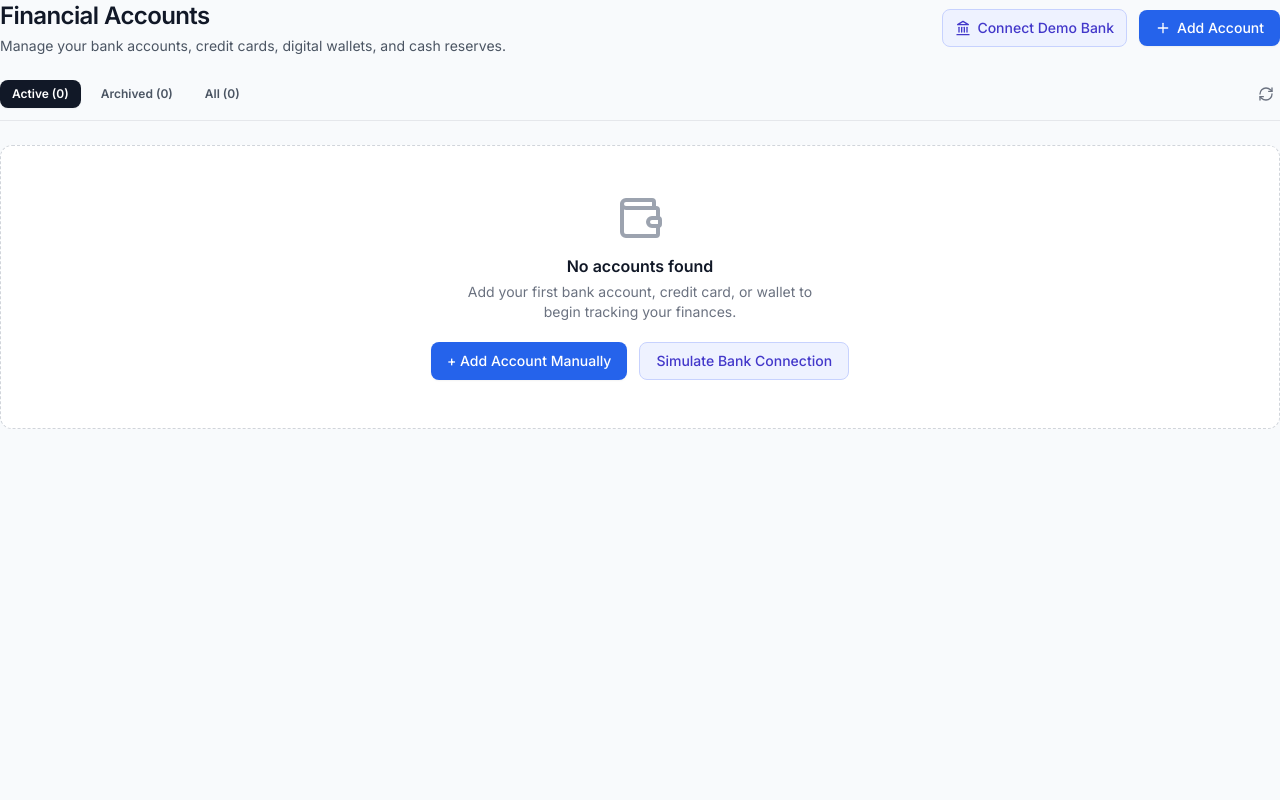
Test: Frontend Financial Engine & Banking Pages › handles account creation errors cleanly and shows confirmed success banner
Expected: the heading "No accounts found" is shown, [567, 256, 713, 276]
Step 1. Click the button "Add Account" → (1210, 28), box [1139, 10, 1279, 46]
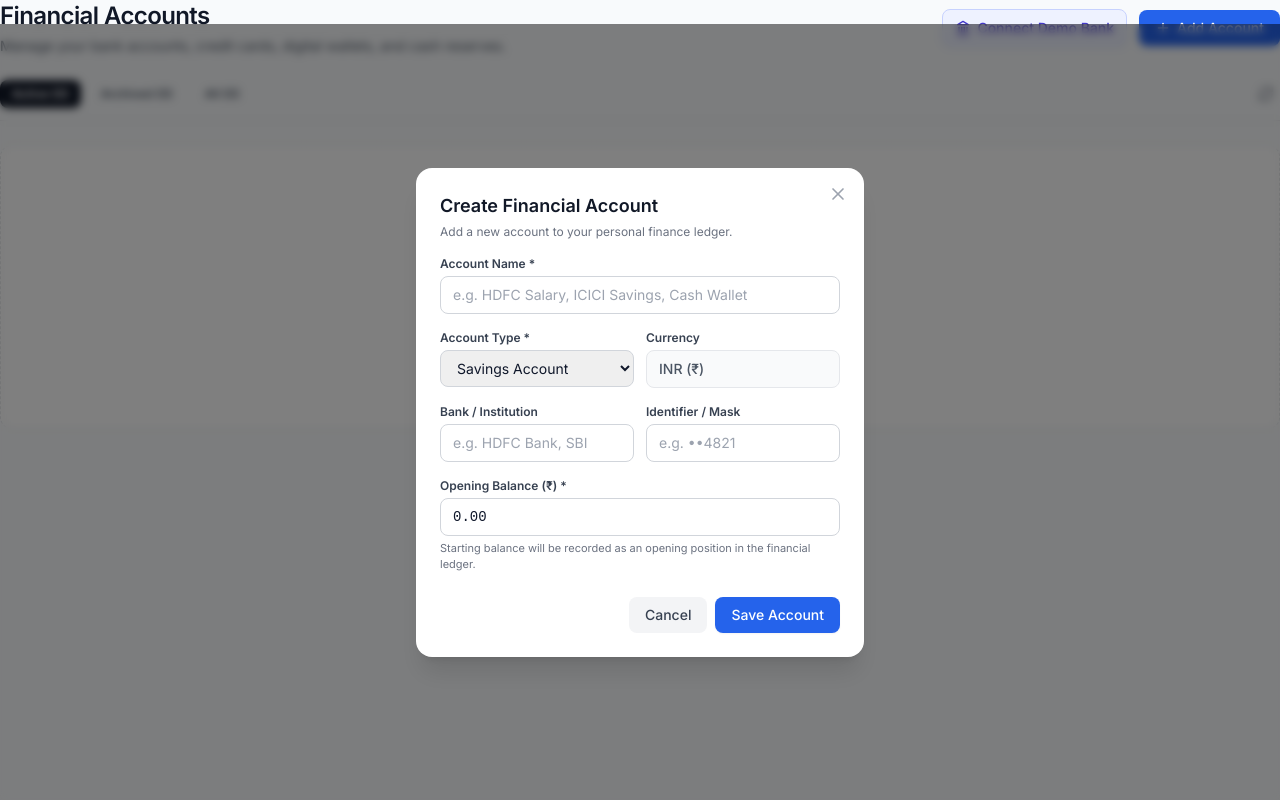
Step 2. Type "SBI Savings" into the field with placeholder "e.g. HDFC Salary, ICICI Savings, Cash Wallet" → (640, 294), box [440, 276, 840, 314]
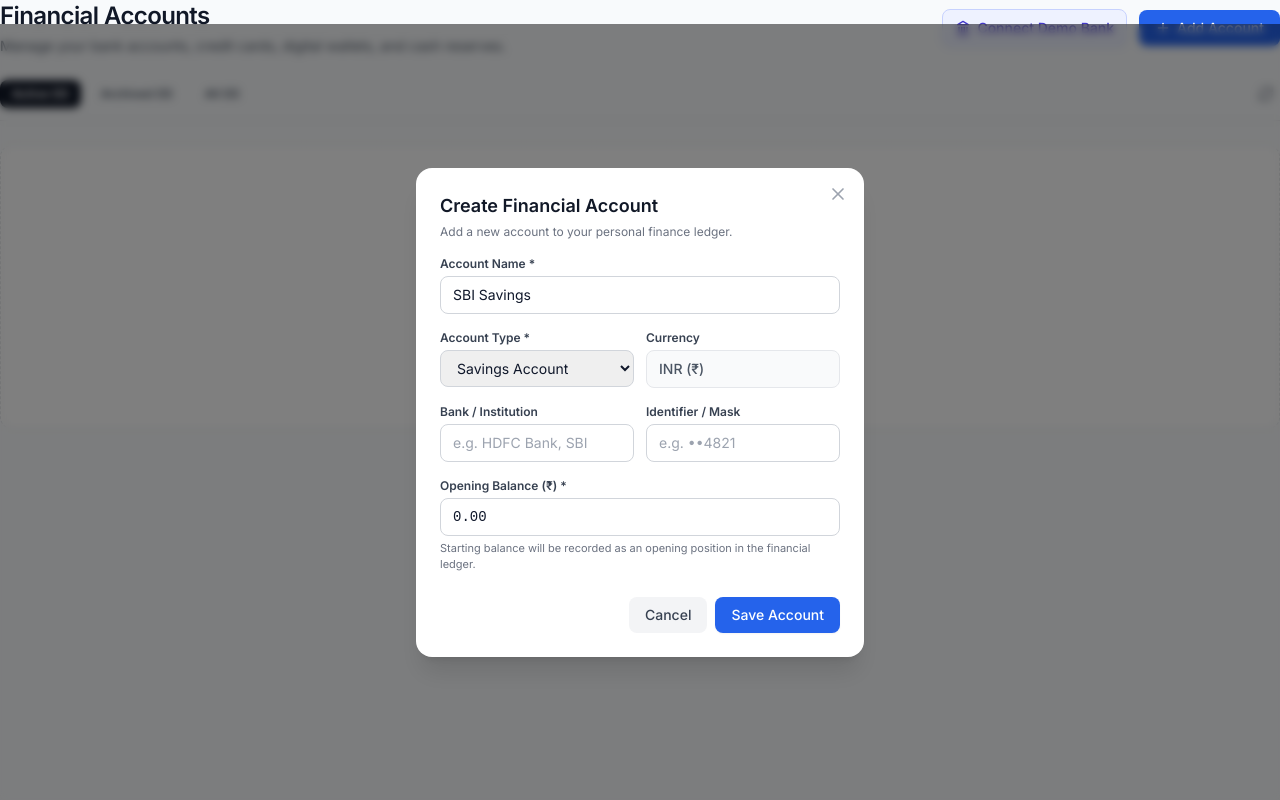
Step 3. Click the button "Save Account" → (778, 614), box [715, 596, 840, 632]
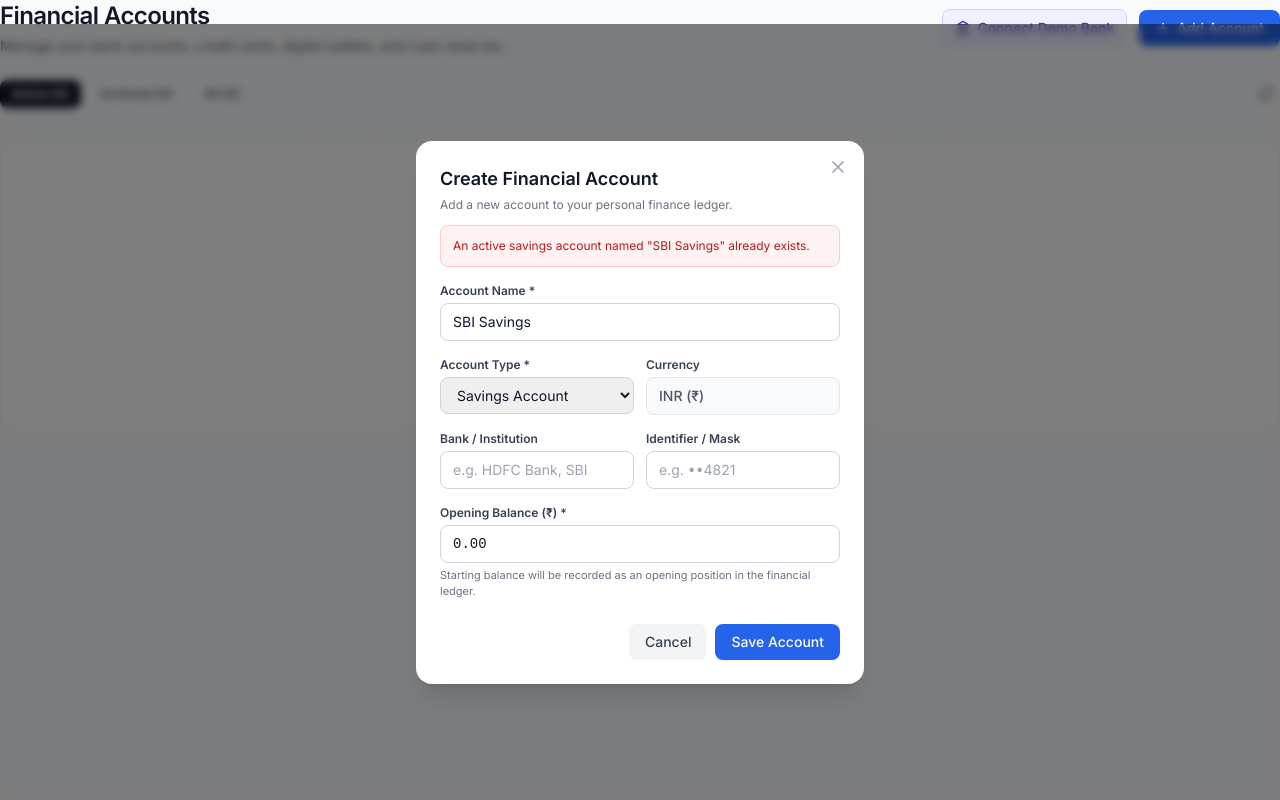
Result: the text "Save Account" is enabled at [731, 632, 824, 652]
Result: the text "An active savings account named \"SBI Savings\" already exists." is shown at [440, 224, 840, 266]
Step 4. Click the button "Save Account" → (778, 642), box [715, 624, 840, 660]
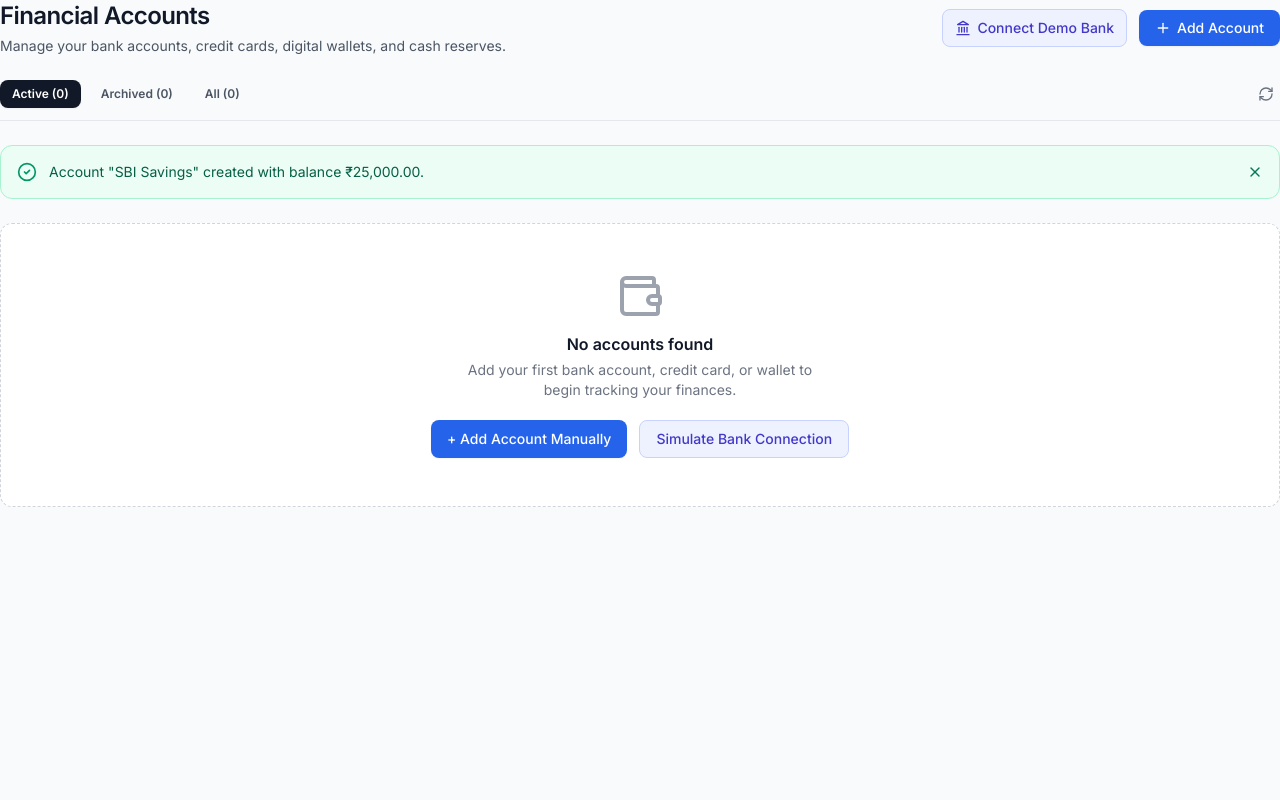
Result: the text "Account \"SBI Savings\" created with balance ₹25,000.00." is shown at [49, 163, 424, 180]
